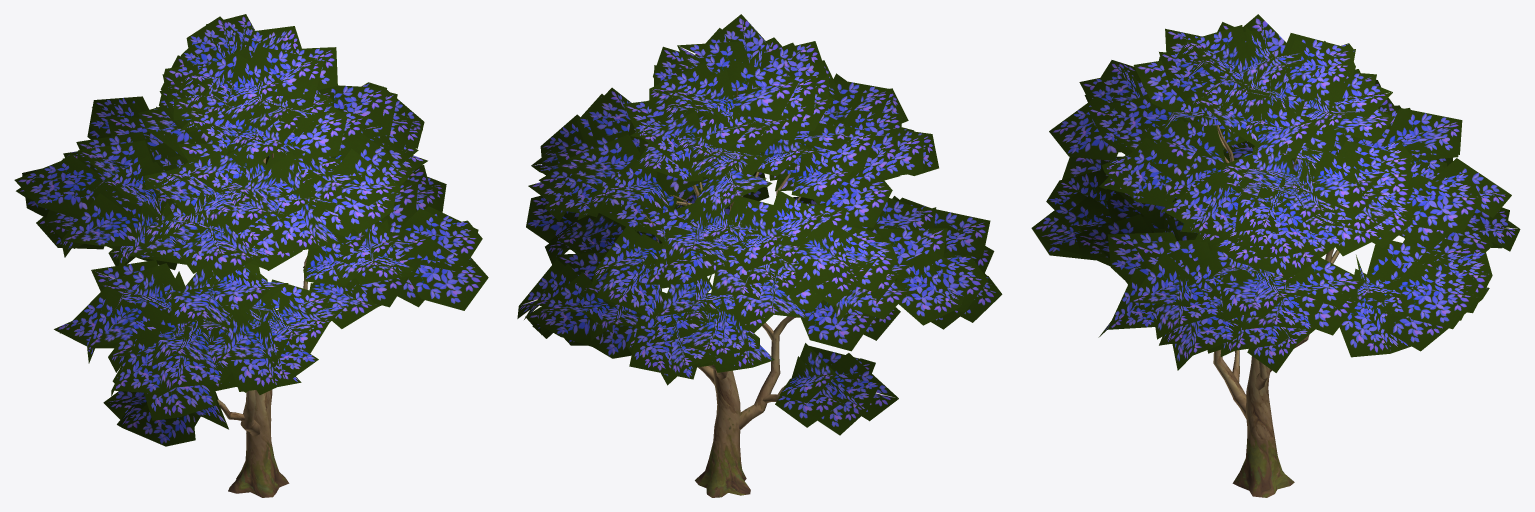
Rendered from Homeworld_Exterior_Dq_Plant_Pt_06_Lod0.fbx.
3 renders of one model, left to right at view 1: azimuth 30°, elevation 25°; view 2: azimuth 150°, elevation 25°; view 3: azimuth 270°, elevation 25°, orthographic. The views are drawn at different scales.
Parts seen in each view (by area): view 1: Area_Dq_Tree_Common_Ls_01_04_Leaf_Lod0, Area_Dq_Tree_Common_Ls_01_04_Bark_Lod0; view 2: Area_Dq_Tree_Common_Ls_01_04_Leaf_Lod0, Area_Dq_Tree_Common_Ls_01_04_Bark_Lod0; view 3: Area_Dq_Tree_Common_Ls_01_04_Leaf_Lod0, Area_Dq_Tree_Common_Ls_01_04_Bark_Lod0.
Boxes of the visible parts, x1,y1,x2,y2 form: Area_Dq_Tree_Common_Ls_01_04_Leaf_Lod0: [14, 14, 488, 446]; Area_Dq_Tree_Common_Ls_01_04_Bark_Lod0: [154, 153, 307, 497]; Area_Dq_Tree_Common_Ls_01_04_Leaf_Lod0: [517, 14, 1002, 435]; Area_Dq_Tree_Common_Ls_01_04_Bark_Lod0: [641, 83, 801, 497]; Area_Dq_Tree_Common_Ls_01_04_Leaf_Lod0: [1031, 14, 1520, 372]; Area_Dq_Tree_Common_Ls_01_04_Bark_Lod0: [1213, 52, 1412, 497].
Bounding box in the file's own units: 12.95 × 13.41 × 13.1.
